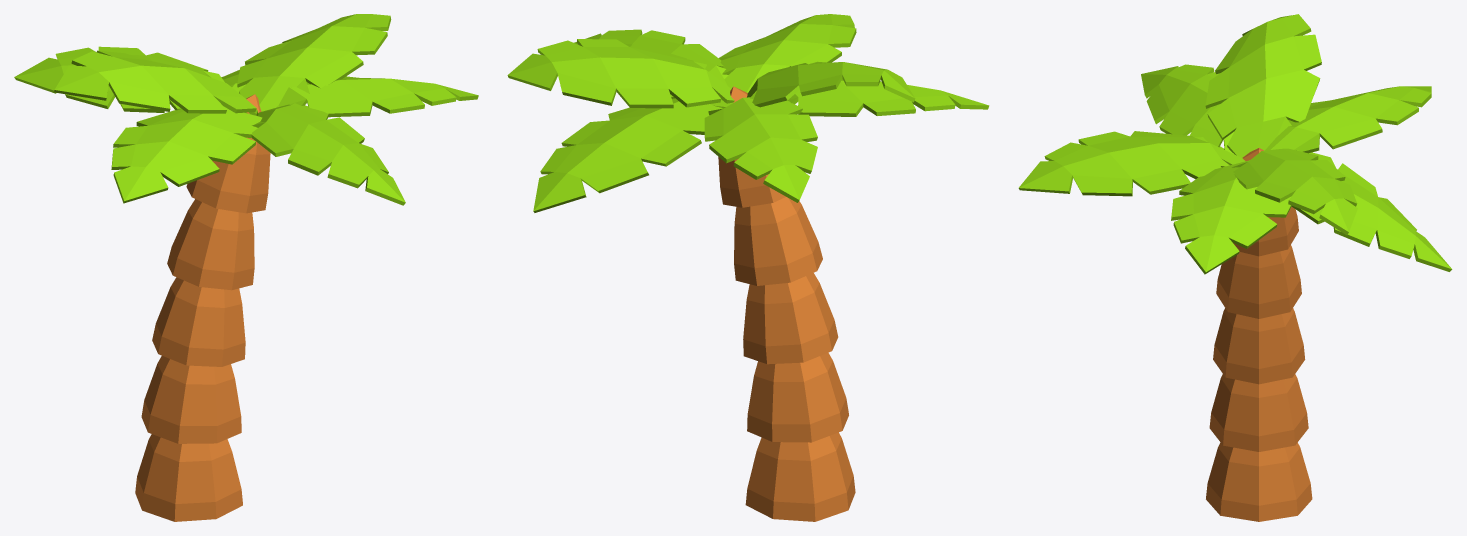
File: PalmTree1.fbx
3 views of the same model, side by side, from view 1: azimuth 30°, elevation 25°; view 2: azimuth 150°, elevation 25°; view 3: azimuth 270°, elevation 25° (orthographic). The views are drawn at different scales.
Visible parts, largest first — view 1: Trunk, Leaf3, Leaf7, Leaf6, Leaf4, Leaf5, Leaf1; view 2: Trunk, Leaf7, Leaf2, Leaf1, Leaf4, Leaf6, Leaf3, Leaf5; view 3: Trunk, Leaf6, Leaf4, Leaf5, Leaf7, Leaf1, Leaf2, Leaf3.
Part boxes in pixels (<box>): Trunk: <box>135,94,270,521</box>; Leaf3: <box>111,106,262,203</box>; Leaf7: <box>237,14,391,111</box>; Leaf6: <box>54,50,258,115</box>; Leaf4: <box>251,103,405,205</box>; Leaf5: <box>279,76,478,117</box>; Leaf1: <box>14,46,224,112</box>; Trunk: <box>718,86,855,521</box>; Leaf7: <box>507,39,734,108</box>; Leaf2: <box>533,98,733,212</box>; Leaf1: <box>704,97,817,202</box>; Leaf4: <box>718,14,856,92</box>; Leaf6: <box>747,61,915,107</box>; Leaf3: <box>787,79,989,116</box>; Leaf5: <box>574,29,728,98</box>; Trunk: <box>1206,148,1312,521</box>; Leaf6: <box>1205,14,1321,157</box>; Leaf4: <box>1018,131,1245,196</box>; Leaf5: <box>1171,160,1291,274</box>; Leaf7: <box>1232,148,1357,235</box>; Leaf1: <box>1265,86,1431,153</box>; Leaf2: <box>1292,150,1452,271</box>; Leaf3: <box>1141,64,1234,154</box>.
Size of the model in its own units: 715 by 793 by 707.
